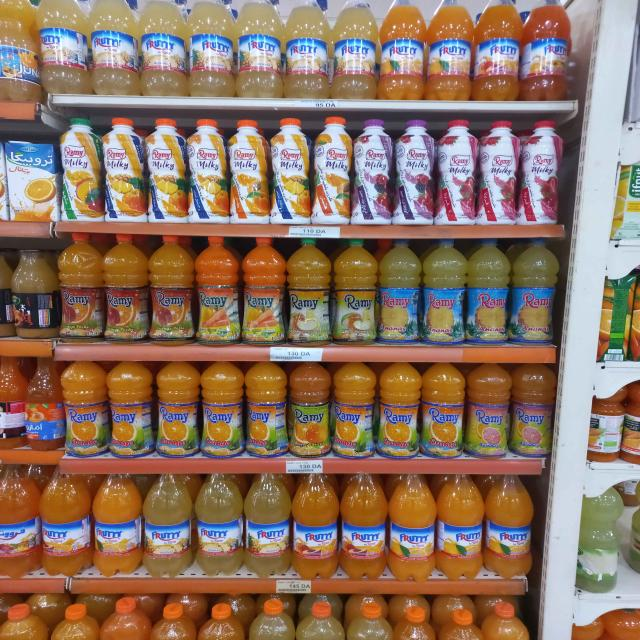PET Frutty Annanas 2L: (35, 0, 95, 95), (143, 473, 198, 576), (244, 474, 292, 578), (332, 2, 382, 100), (235, 0, 284, 98), (287, 2, 331, 105), (94, 1, 140, 97), (200, 474, 243, 576), (143, 2, 189, 96), (191, 2, 236, 98), (287, 0, 288, 3)
PET Frutty Or-Peche-Fr 1L: (292, 470, 338, 582), (96, 474, 138, 520)
PET Frutty Or-Peche-Fr 2 L: (34, 465, 92, 573), (478, 1, 522, 103)
PET Frutty Orangre 1L25: (440, 474, 486, 579), (492, 478, 538, 576)
PET Frutty orange 2L: (91, 472, 142, 578), (523, 4, 570, 105), (428, 0, 472, 102), (385, 0, 426, 101)
PET_Frutty_Orange_2Lpng: (342, 472, 388, 582), (392, 474, 437, 578)
Pet Ramy Orange 2L: (158, 356, 204, 466), (376, 362, 426, 458), (64, 362, 111, 461), (205, 357, 246, 459), (116, 360, 156, 460), (430, 358, 464, 468), (336, 365, 376, 458), (255, 355, 288, 460)
Pet Ramy Orange ananas 2L: (287, 358, 335, 458)
Pet Ramy Orange peche 2l: (56, 232, 104, 342), (148, 234, 195, 345), (102, 233, 148, 343)
Pet Ramy agrumes 2L: (465, 359, 510, 463), (512, 360, 555, 465)
Ramy Milky mangues20 CL: (57, 115, 103, 224)
Ramy milky fraise 1L: (522, 116, 566, 232), (478, 116, 520, 225), (437, 115, 477, 226)
Ramy milky fraise framboise 1L: (390, 118, 436, 225), (352, 117, 393, 225)
pet ramy ananas 2L: (514, 238, 559, 344), (424, 240, 468, 345), (470, 239, 510, 350), (380, 239, 420, 346)
pet ramy orange citron carotte 2L: (192, 236, 242, 346), (240, 236, 284, 346)
pet ramy peche pomme poire 2L: (331, 237, 378, 345), (284, 237, 330, 345)
ramy milky abricot 1l: (142, 113, 189, 222), (100, 116, 146, 225), (183, 117, 229, 224), (268, 114, 310, 228), (227, 118, 269, 224), (312, 116, 352, 227)
